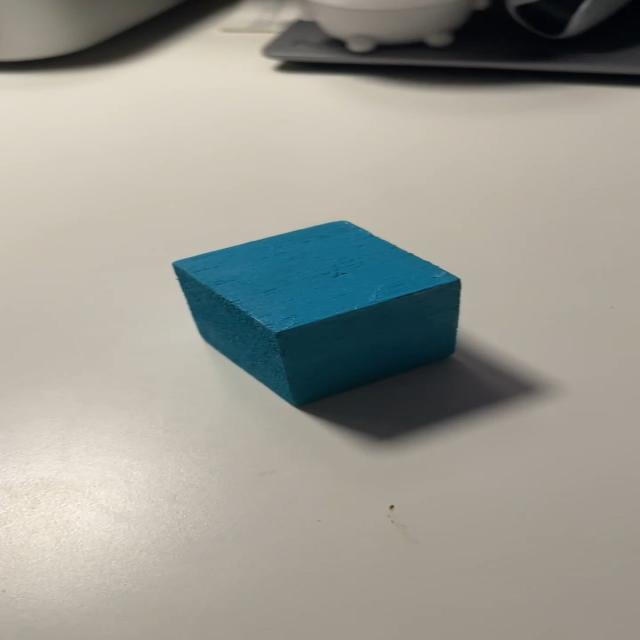blue_block: (160, 217, 478, 403)
